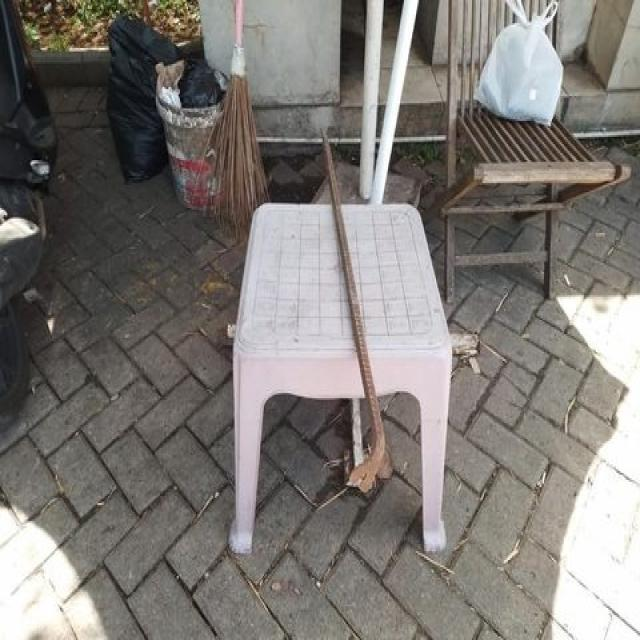Linggis: (322, 131, 388, 493)
